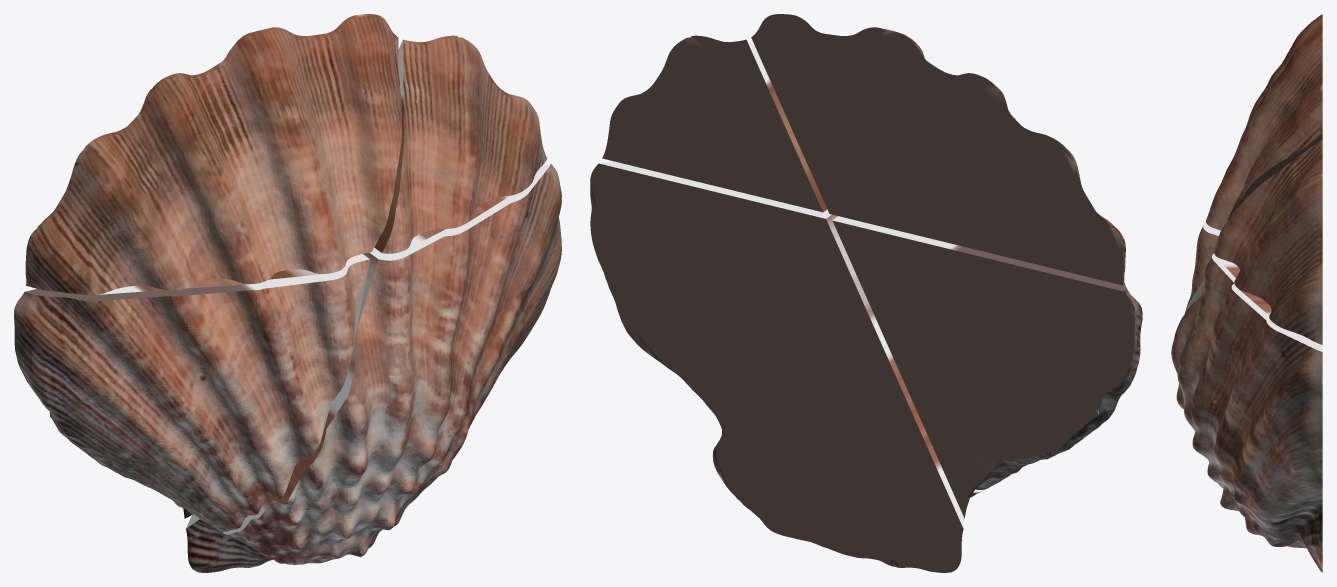
Rendered from shell_part.fbx.
3 views of the same model, side by side, from view 1: azimuth 30°, elevation 25°; view 2: azimuth 150°, elevation 25°; view 3: azimuth 270°, elevation 25° (orthographic). The views are drawn at different scales.
Visible parts, largest first — view 1: shell_part_3, shell_part_2, shell_part_1, shell_part_4; view 2: shell_part_1, shell_part_3, shell_part_2, shell_part_4; view 3: shell_part_1, shell_part_4, shell_part_3, shell_part_2.
Boxes of the visible parts, x1=… form: shell_part_3: x1=25, y1=14, x2=401, y2=295; shell_part_2: x1=14, y1=254, x2=369, y2=531; shell_part_1: x1=186, y1=163, x2=561, y2=572; shell_part_4: x1=374, y1=35, x2=547, y2=253; shell_part_1: x1=590, y1=161, x2=985, y2=572; shell_part_3: x1=751, y1=14, x2=1125, y2=285; shell_part_2: x1=832, y1=216, x2=1142, y2=518; shell_part_4: x1=602, y1=35, x2=826, y2=212; shell_part_1: x1=1171, y1=253, x2=1322, y2=572; shell_part_4: x1=1214, y1=139, x2=1322, y2=344; shell_part_3: x1=1206, y1=14, x2=1322, y2=230; shell_part_2: x1=1185, y1=221, x2=1220, y2=312.
Bounding box in the file's own units: 15080 × 14148 × 3951.
